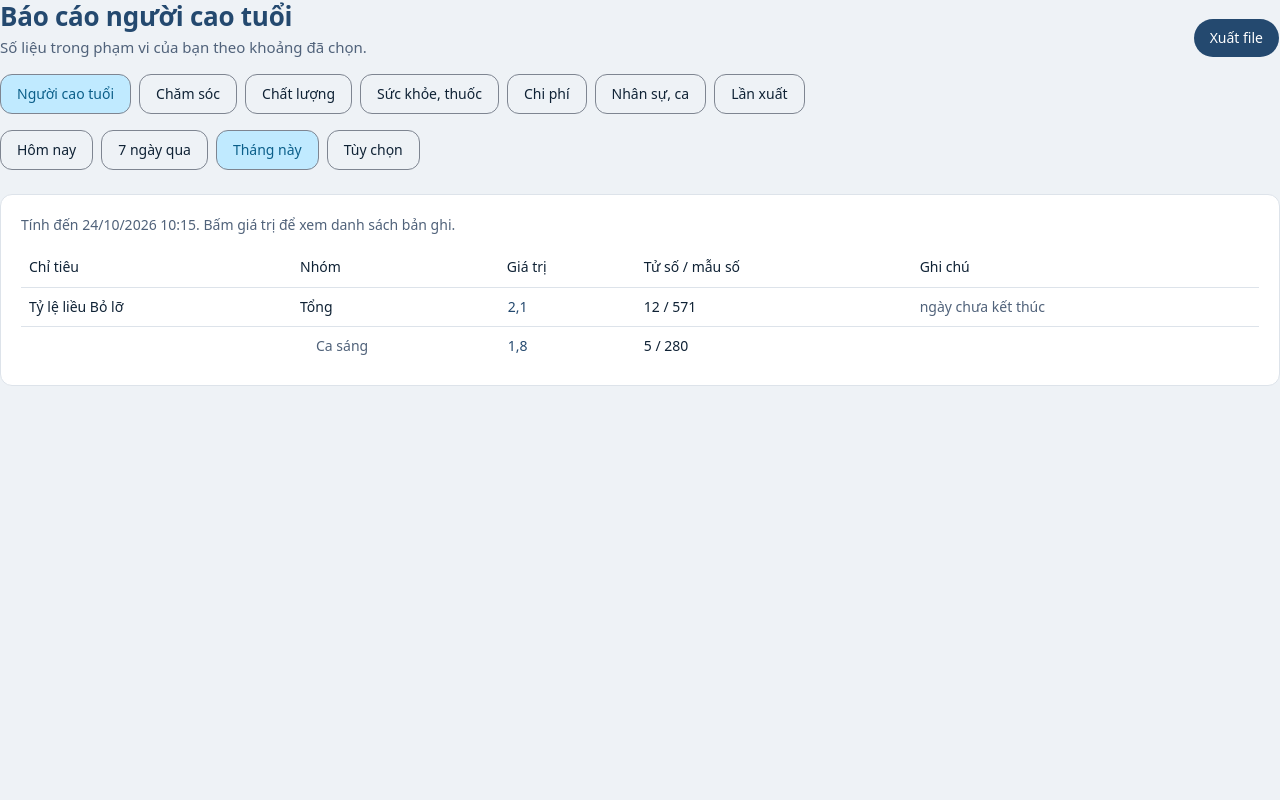
ReportsPage › FR_061_quanLyVien_coDinhDanh_batBuocMucDich_roiXuat
The width and height of the screenshot is (1280, 800).
Expected: the text "Tỷ lệ liều Bỏ lỡ" is shown, [21,287,292,326]
Click the button "Xuất file". click: coordinates (1236, 38)
box: [1193,18,1279,58]
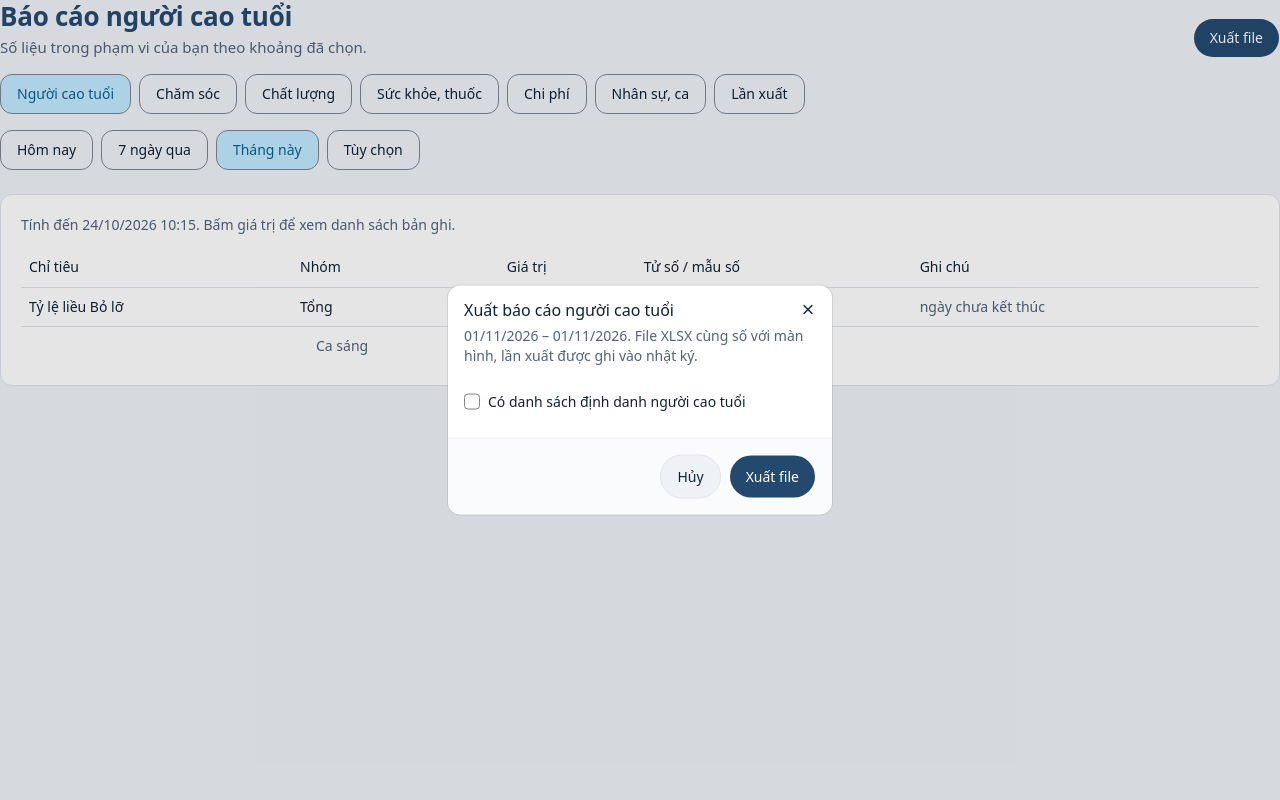
Click the checkbox named "Có danh sách định danh người cao tuổi". click: coordinates (472, 402)
box: [464,394,480,410]
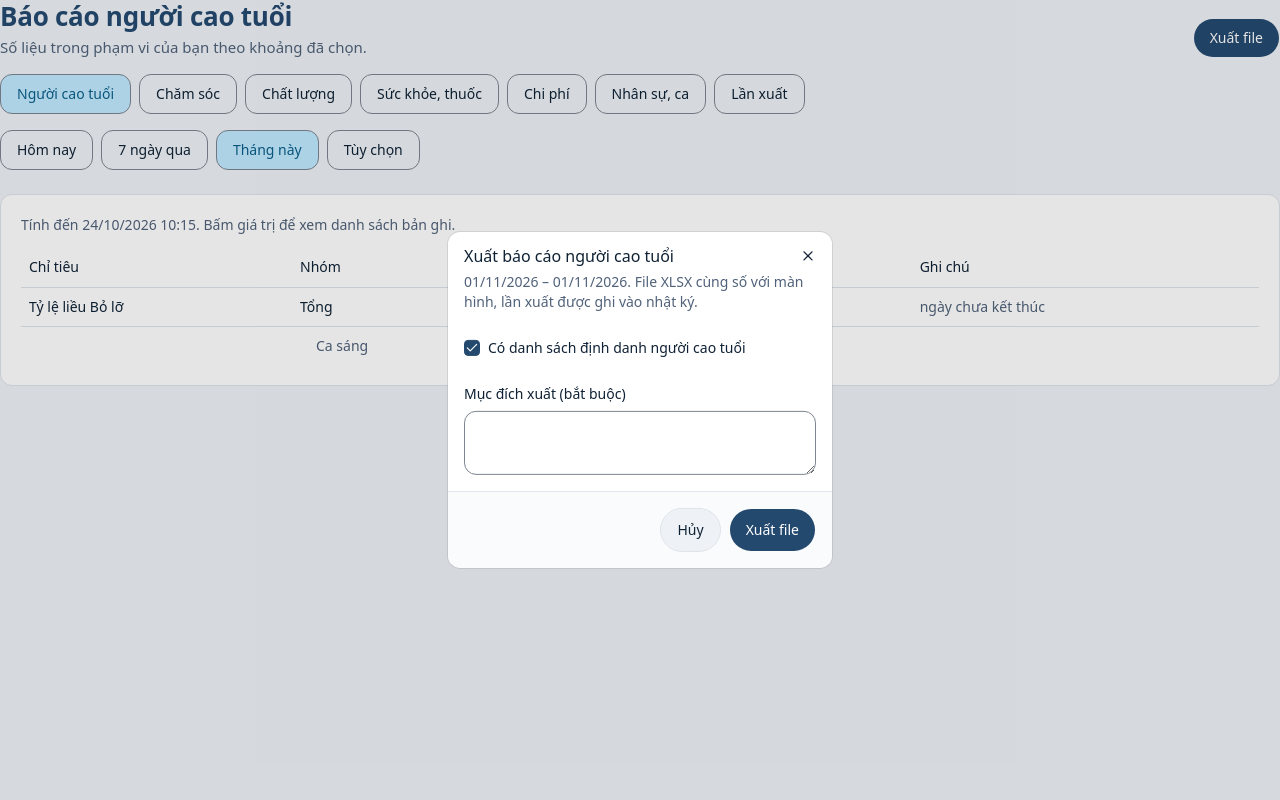
Click the button "Xuất file". click: coordinates (772, 530)
box: [729,508,816,552]
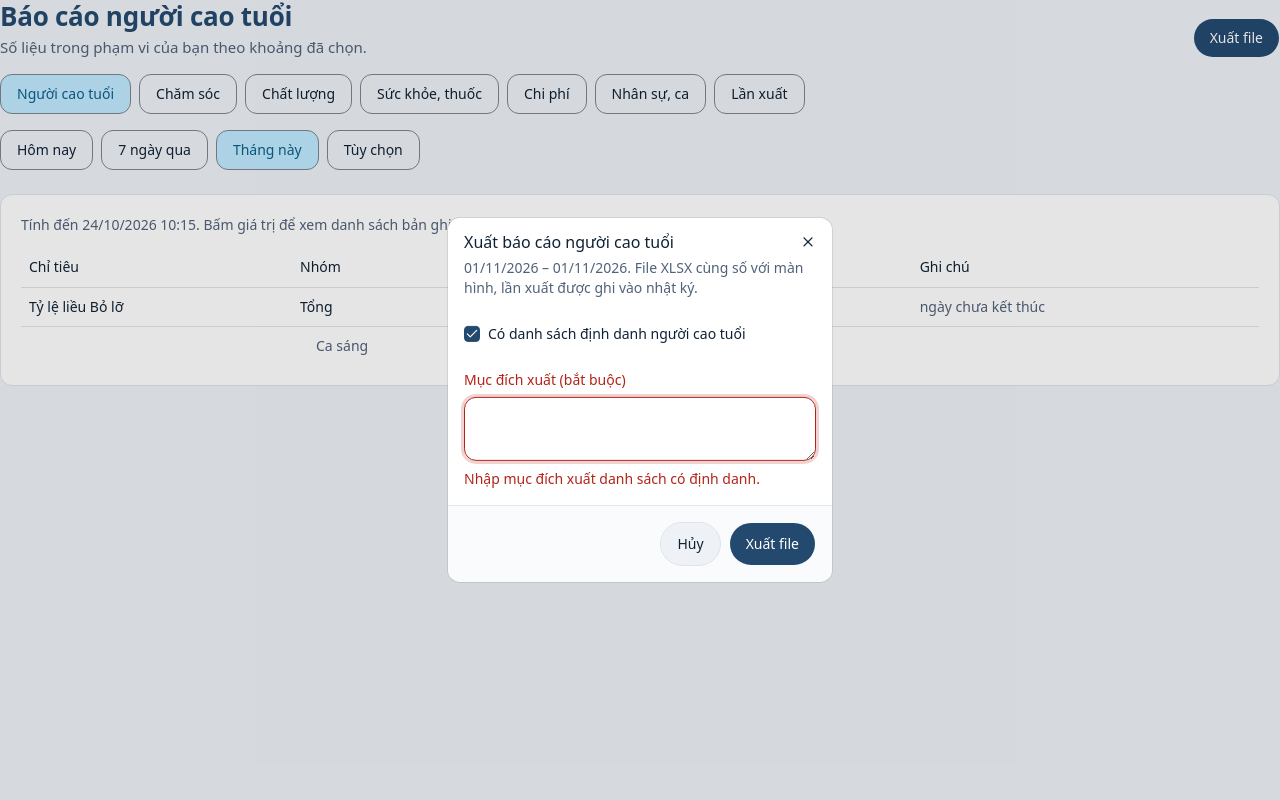
Now the text "Nhập mục đích xuất danh sách có định danh." is shown, box [464,469,760,488]
Type "Họp giao ban an toàn thuốc" into the text box labelled "Mục đích xuất (bắt buộc)". click: coordinates (640, 429)
box: [464,397,816,461]
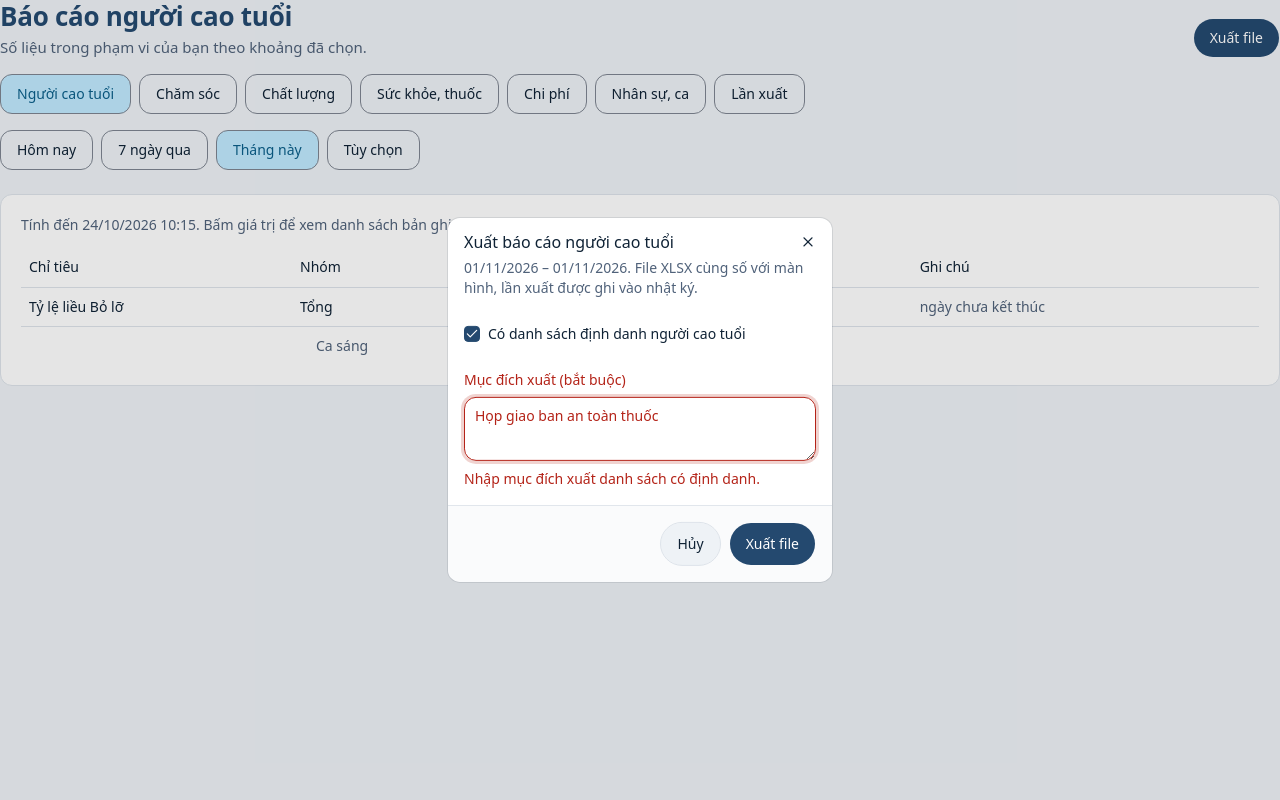
Click the button "Xuất file". click: coordinates (772, 544)
box: [729,522,816,566]
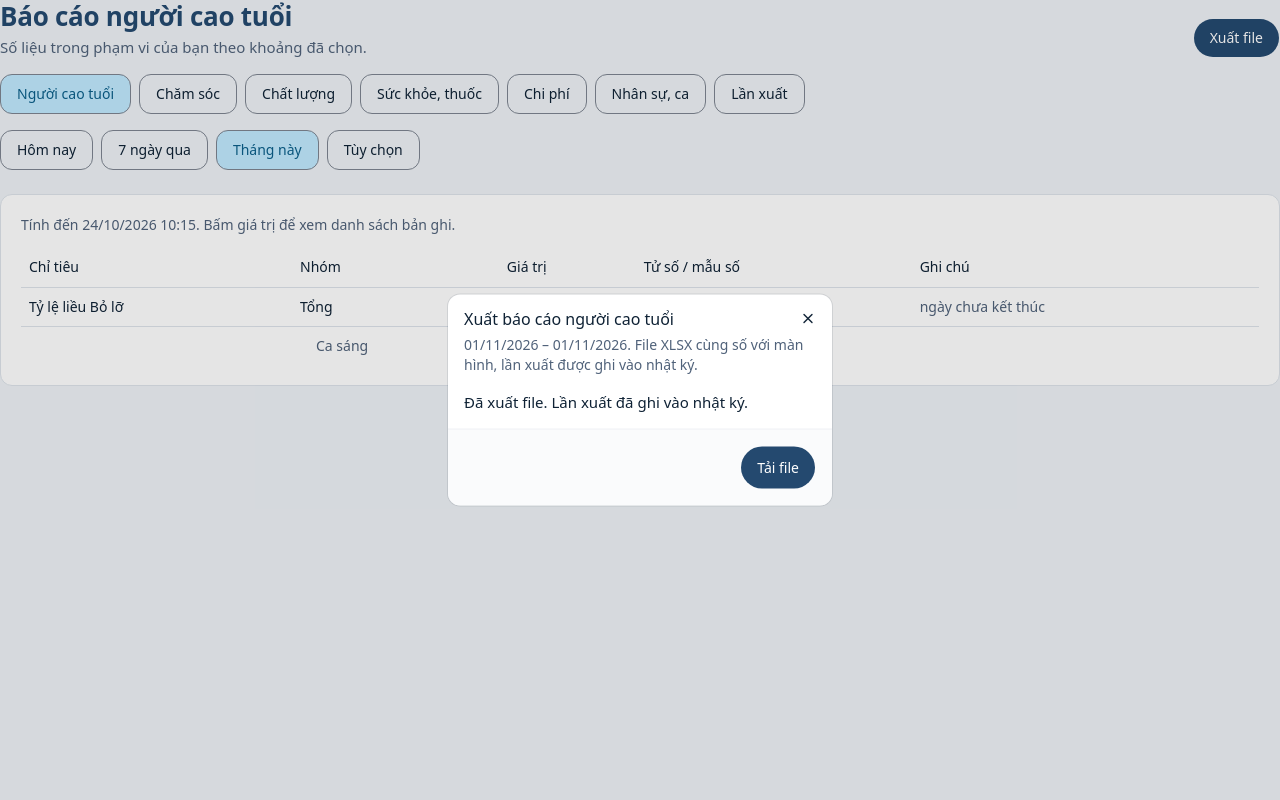
Now the button "Tải file" is shown, box [740,446,816,490]
